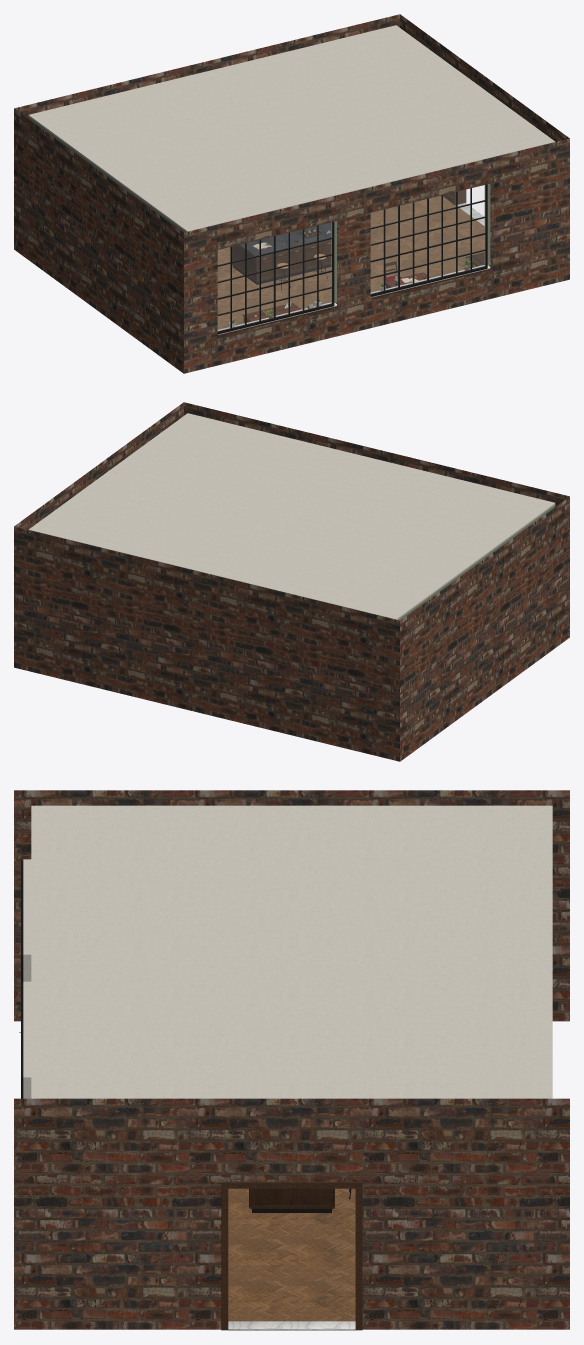
The model's file is cabinet.glb.
3 renders of one model, top to bottom at view 1: azimuth 30°, elevation 25°; view 2: azimuth 150°, elevation 25°; view 3: azimuth 270°, elevation 25°, orthographic. The views are drawn at different scales.
Parts seen in each view (by area): view 1: facade, plafond, verre, sol, chassis, meubles, facade_est, pierre, murs, marbre, lambris; view 2: facade, plafond, facade_est, murs; view 3: plafond, facade_est, sol, facade, lambris, ebrasements, meubles, marbre, chassis.
Boxes of the visible parts, box(x1,y1,x2,y2) form: facade: box(14, 14, 569, 373); plafond: box(28, 25, 555, 231); verre: box(218, 185, 485, 331); sol: box(217, 195, 484, 329); chassis: box(217, 184, 487, 334); meubles: box(232, 240, 484, 323); facade_est: box(400, 14, 569, 141); pierre: box(239, 222, 331, 257); murs: box(28, 117, 490, 302); marbre: box(217, 203, 490, 334); lambris: box(217, 189, 490, 336); facade: box(14, 402, 569, 761); plafond: box(28, 413, 555, 619); facade_est: box(14, 402, 183, 529); murs: box(398, 505, 555, 620); plafond: box(31, 805, 552, 1098); facade_est: box(14, 1098, 569, 1329); sol: box(228, 1188, 355, 1321); facade: box(14, 790, 569, 1021); lambris: box(221, 1181, 362, 1330); ebrasements: box(23, 859, 31, 1098); meubles: box(249, 1188, 334, 1208); marbre: box(228, 1321, 355, 1330); chassis: box(21, 860, 351, 1212).
Bounding box in the file's own units: 12.63 × 4.45 × 9.6.
94 materials, 69 textured.
